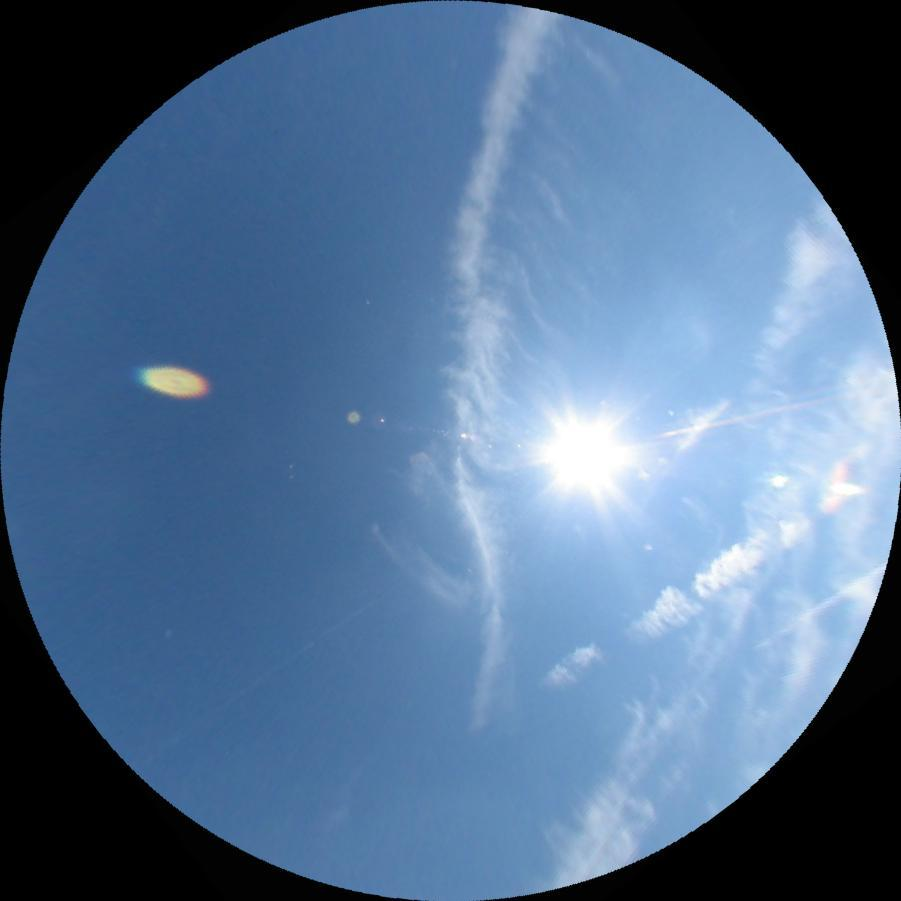contrail veryold: (352, 15, 680, 621), (416, 2, 559, 730), (539, 504, 810, 706)
parasite: (655, 392, 837, 441)
sun: (535, 410, 628, 495)
unknow: (751, 564, 885, 650)
